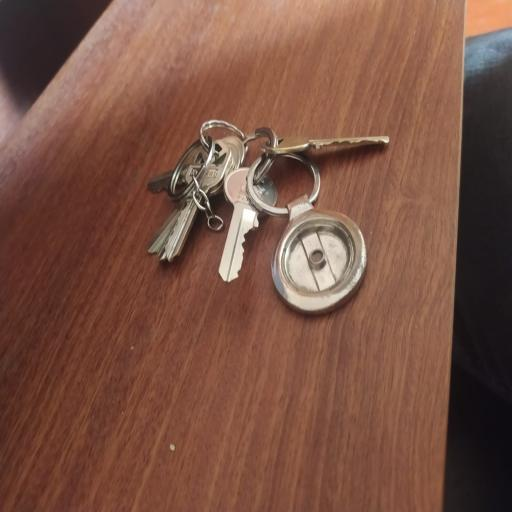Llaves: (140, 110, 400, 326)
